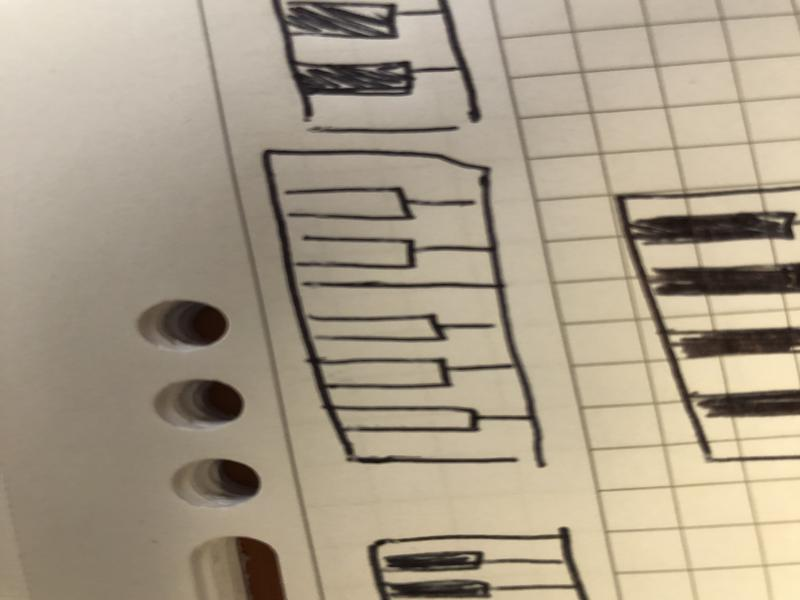piano: (254, 142, 567, 476)
